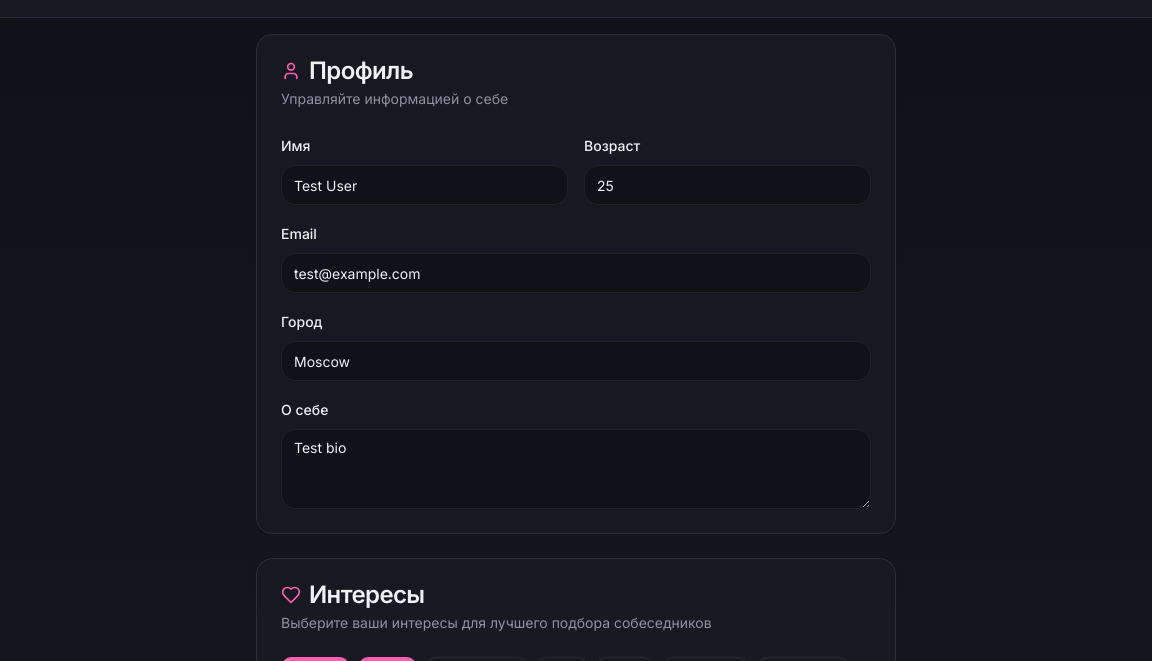
Test case: Settings Component › shows loading state during save
# Сначала нужно внести изменения, чтобы кнопка стала активной
Replace the text in the field labelled "Имя" with "Updated Name" at [424, 185], box 281,165 -> 568,205
(page scrolled)
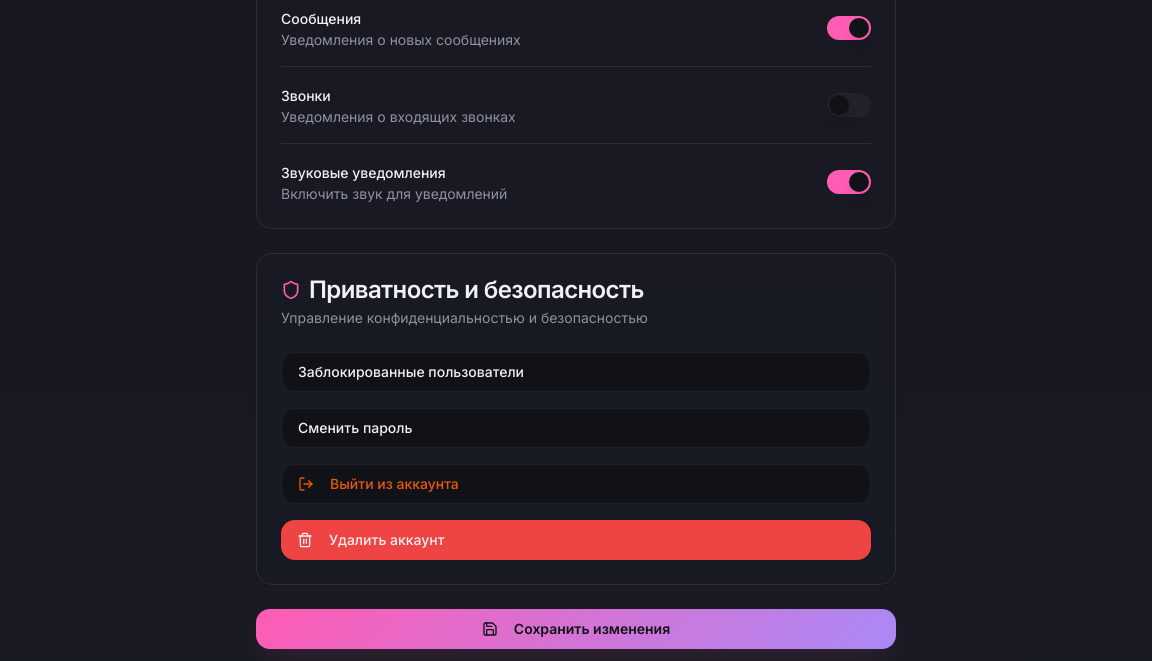
Click the button "Сохранить изменения".
click(576, 629)  # box 256,609 -> 896,649
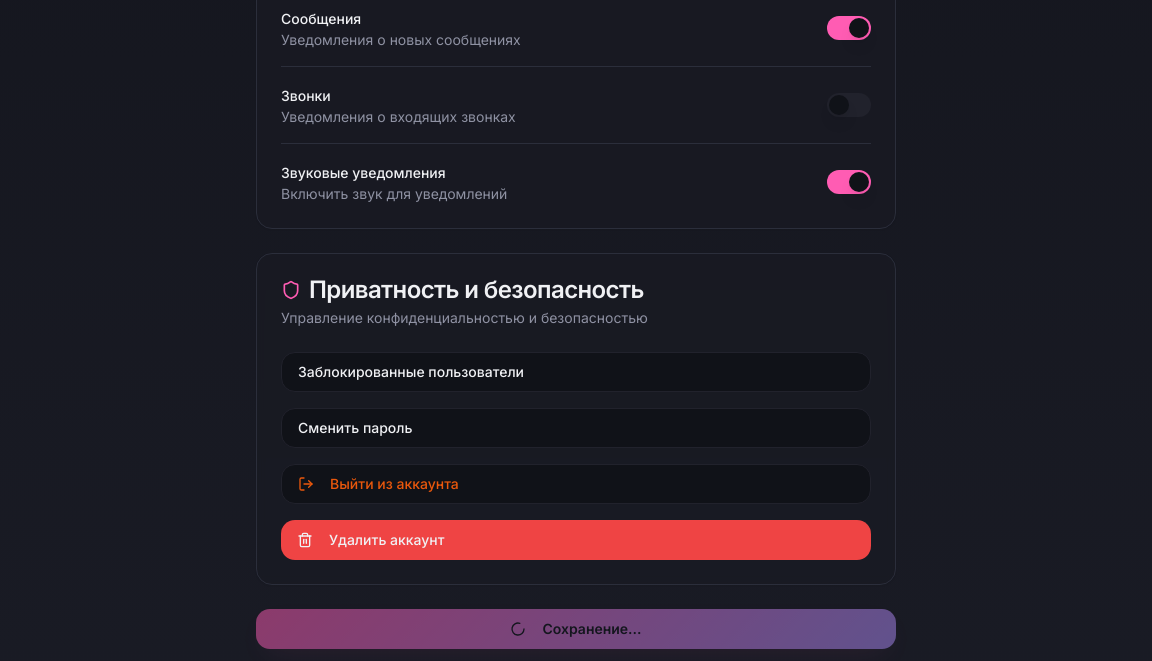
Now the button "Сохранение..." is disabled, box 256,609 -> 896,649
Now the button "Сохранение..." is shown, box 256,609 -> 896,649
